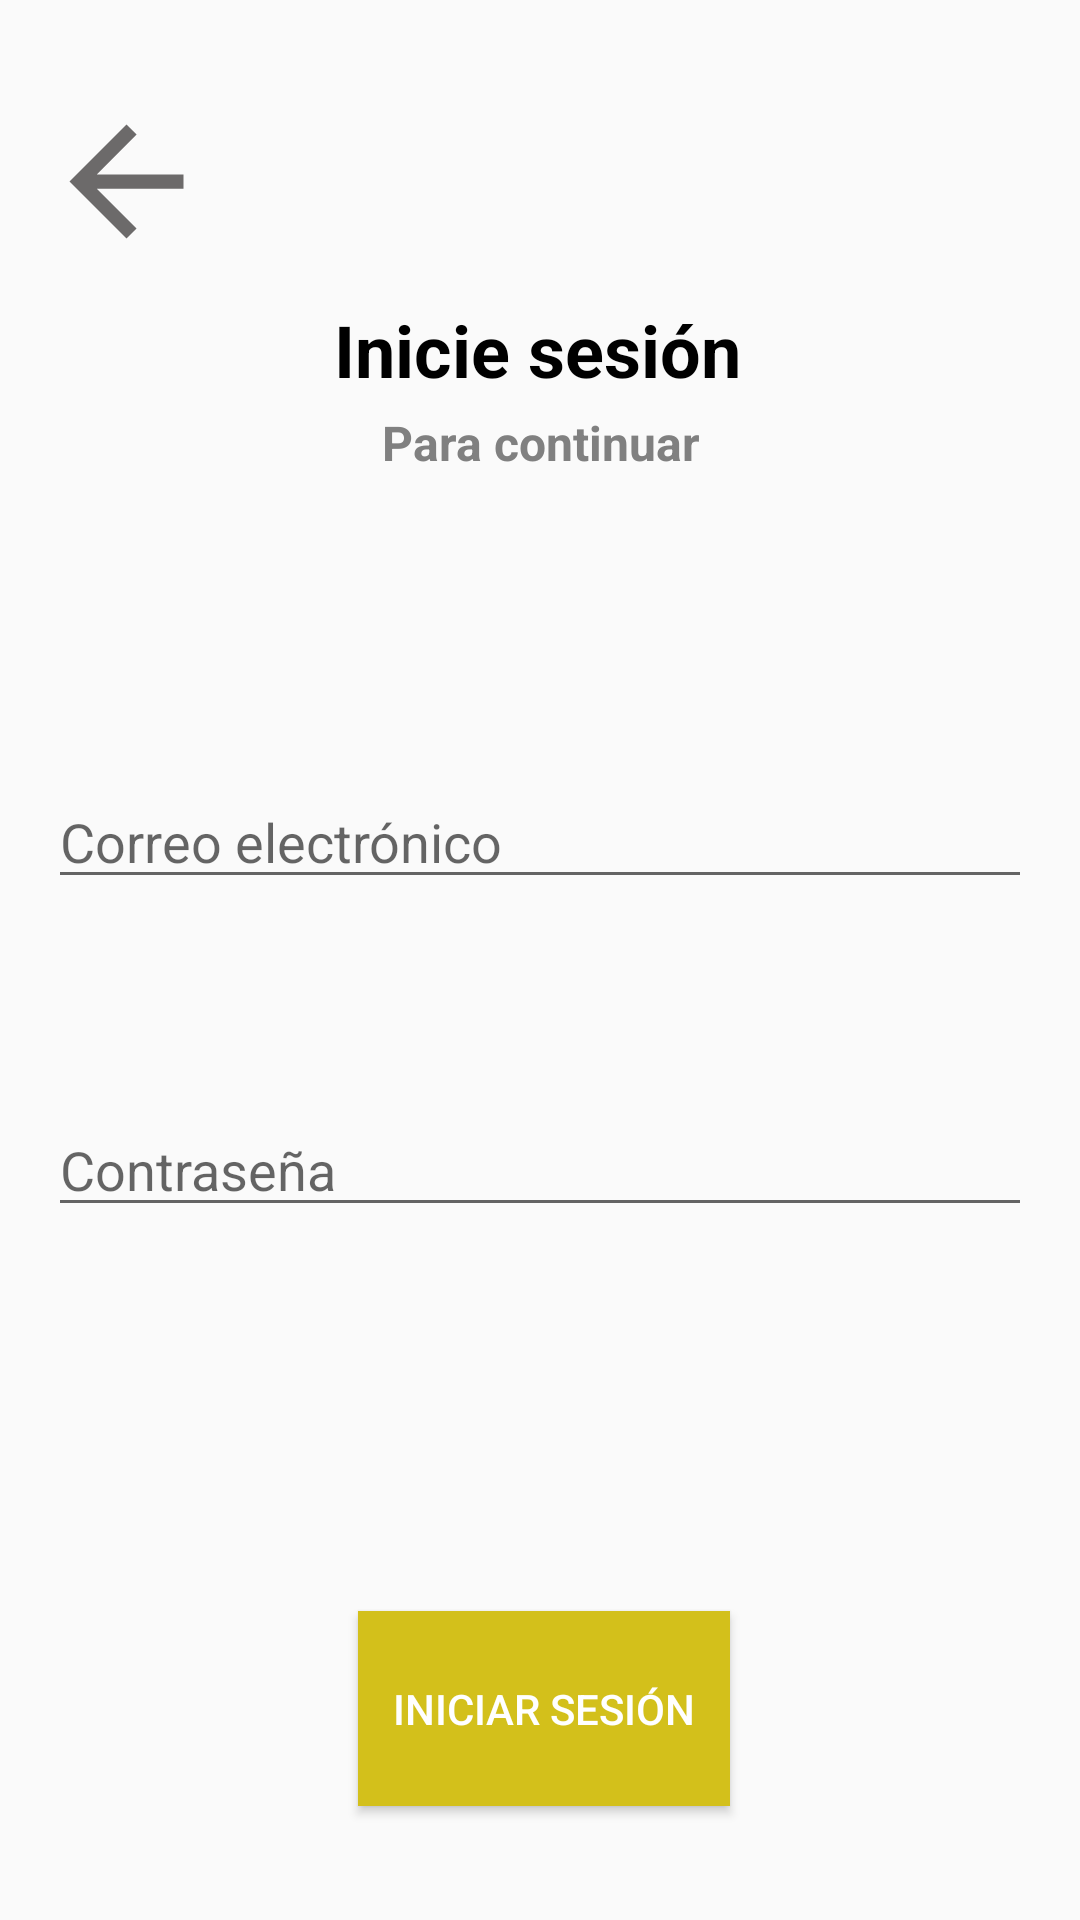

Icon click points for this 1080px x 1920px phone screenshot, format [x,y]:
back: [126,181]
